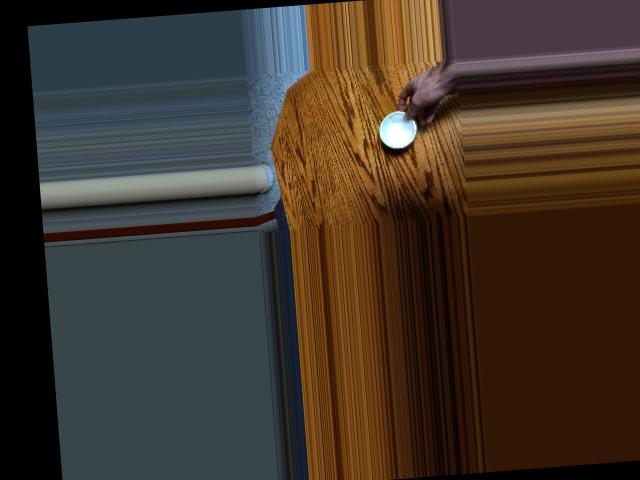cotage: (377, 105, 418, 153)
